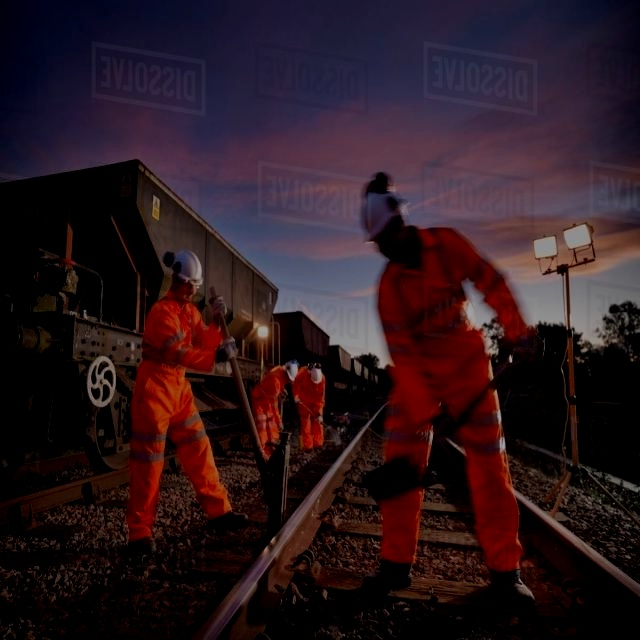Con_Casco: (170, 249, 202, 294)
Con_Chaleco: (140, 297, 203, 373)
